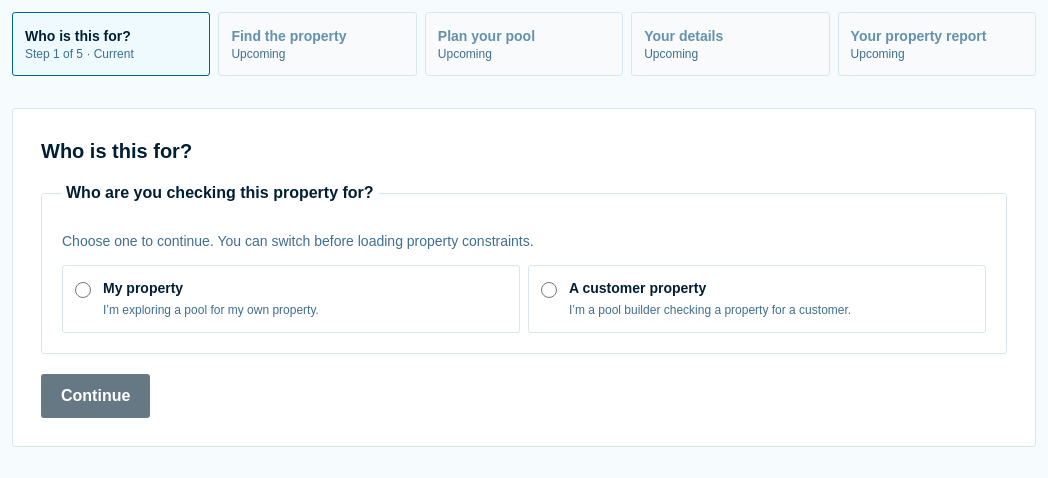
PropertyCheckJourney › explains a 503 rate-limit response without mislabelling it as a property provider failure
Click the radio button labelled "My property". click: (83, 290)
box: [75,282,91,298]
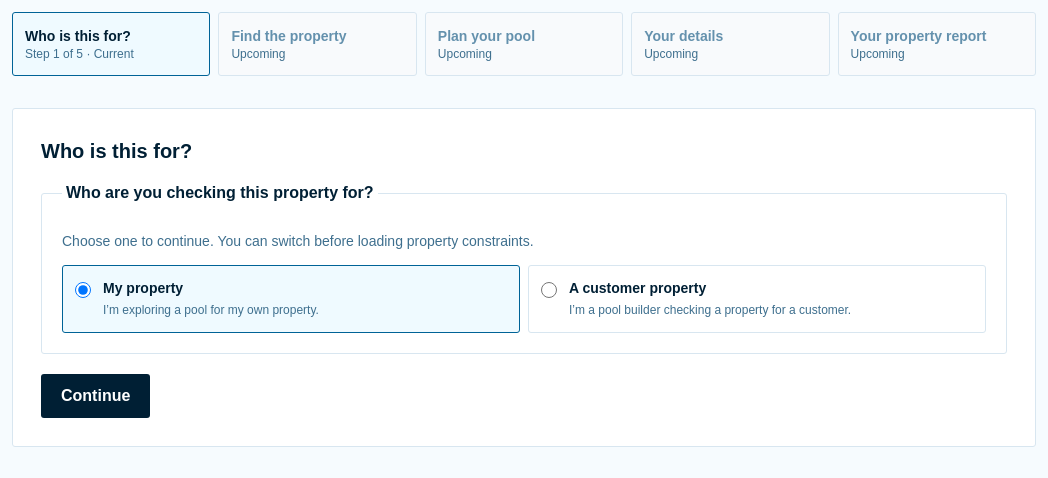
Click the button "Continue". click: (96, 396)
box: [41,374,150,418]
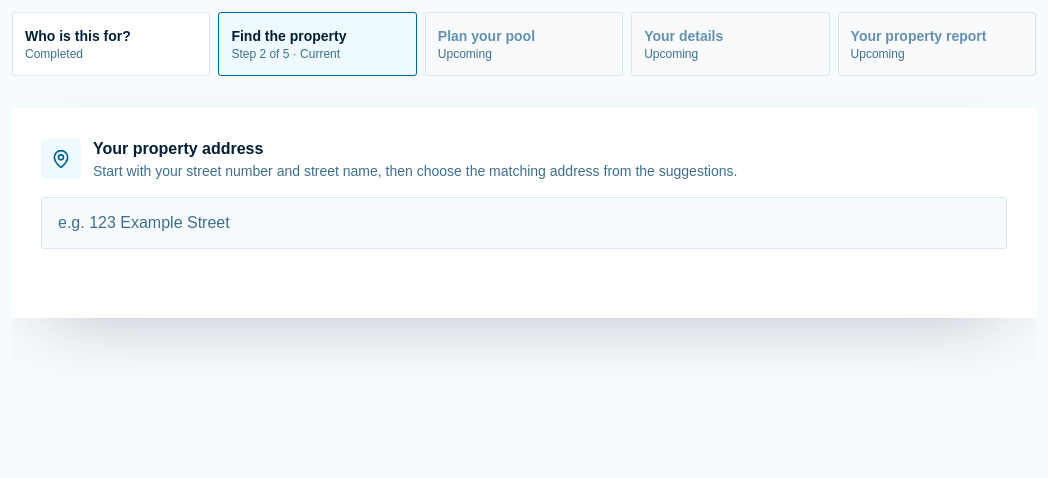
Type "42A Bahari Drive, Ranui, Auckland" into the field named "Auckland property address". click: (524, 223)
box: [41,197,1007,249]
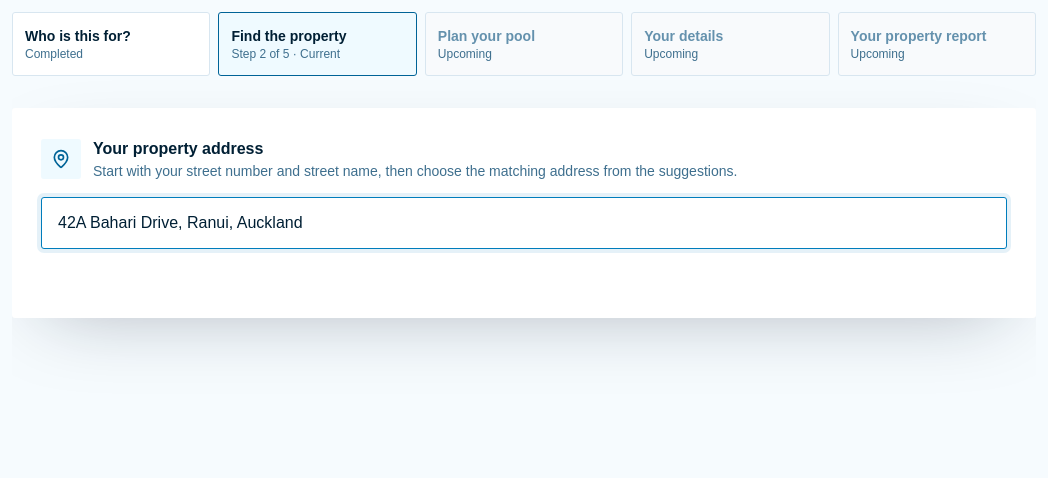
Press Enter
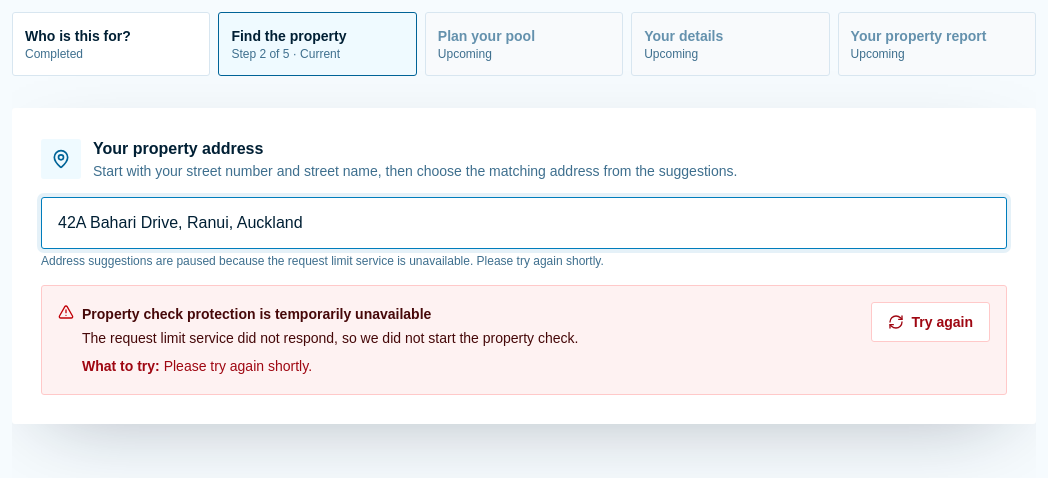
Now the text "Property check protection is temporarily unavailable" is shown, box [82,306,431,322]
